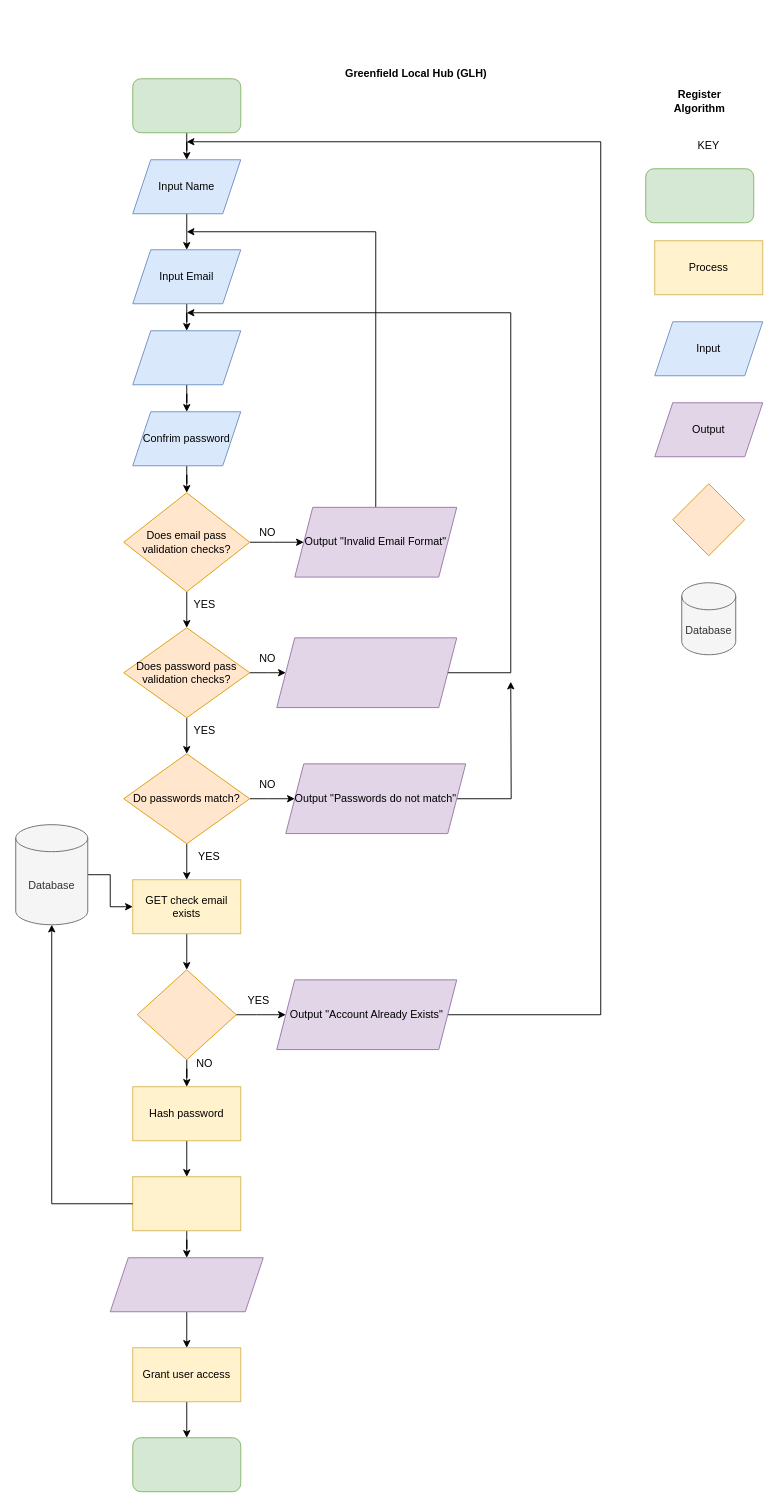
The diagram is 779 pixels wide and 1508 high, and some of its shapes have lost their labels. The shapes that lost their labels are listed below. From the top down, each one's centre as x and y in pixels, then its label:
the point at 186,105: START
the point at 699,195: START/END
the point at 186,357: Input Password
the point at 708,519: Decision
the point at 366,672: Output "Password is too weak"
the point at 186,1014: Is email already registered?
the point at 186,1203: POST new user record
the point at 186,1284: Output"Account created successfully"
the point at 186,1464: END
